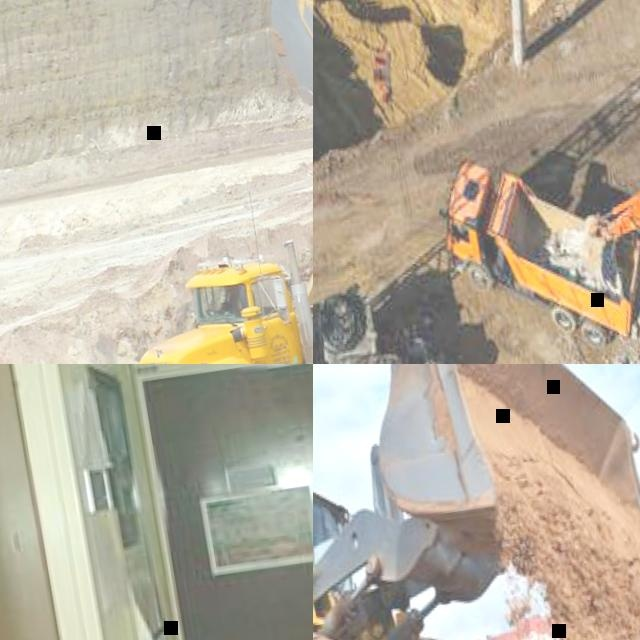Person: (213, 284, 245, 315)
Safety Vest: (224, 290, 243, 312)
machinery: (313, 364, 640, 640), (86, 94, 313, 364), (430, 129, 640, 364)
